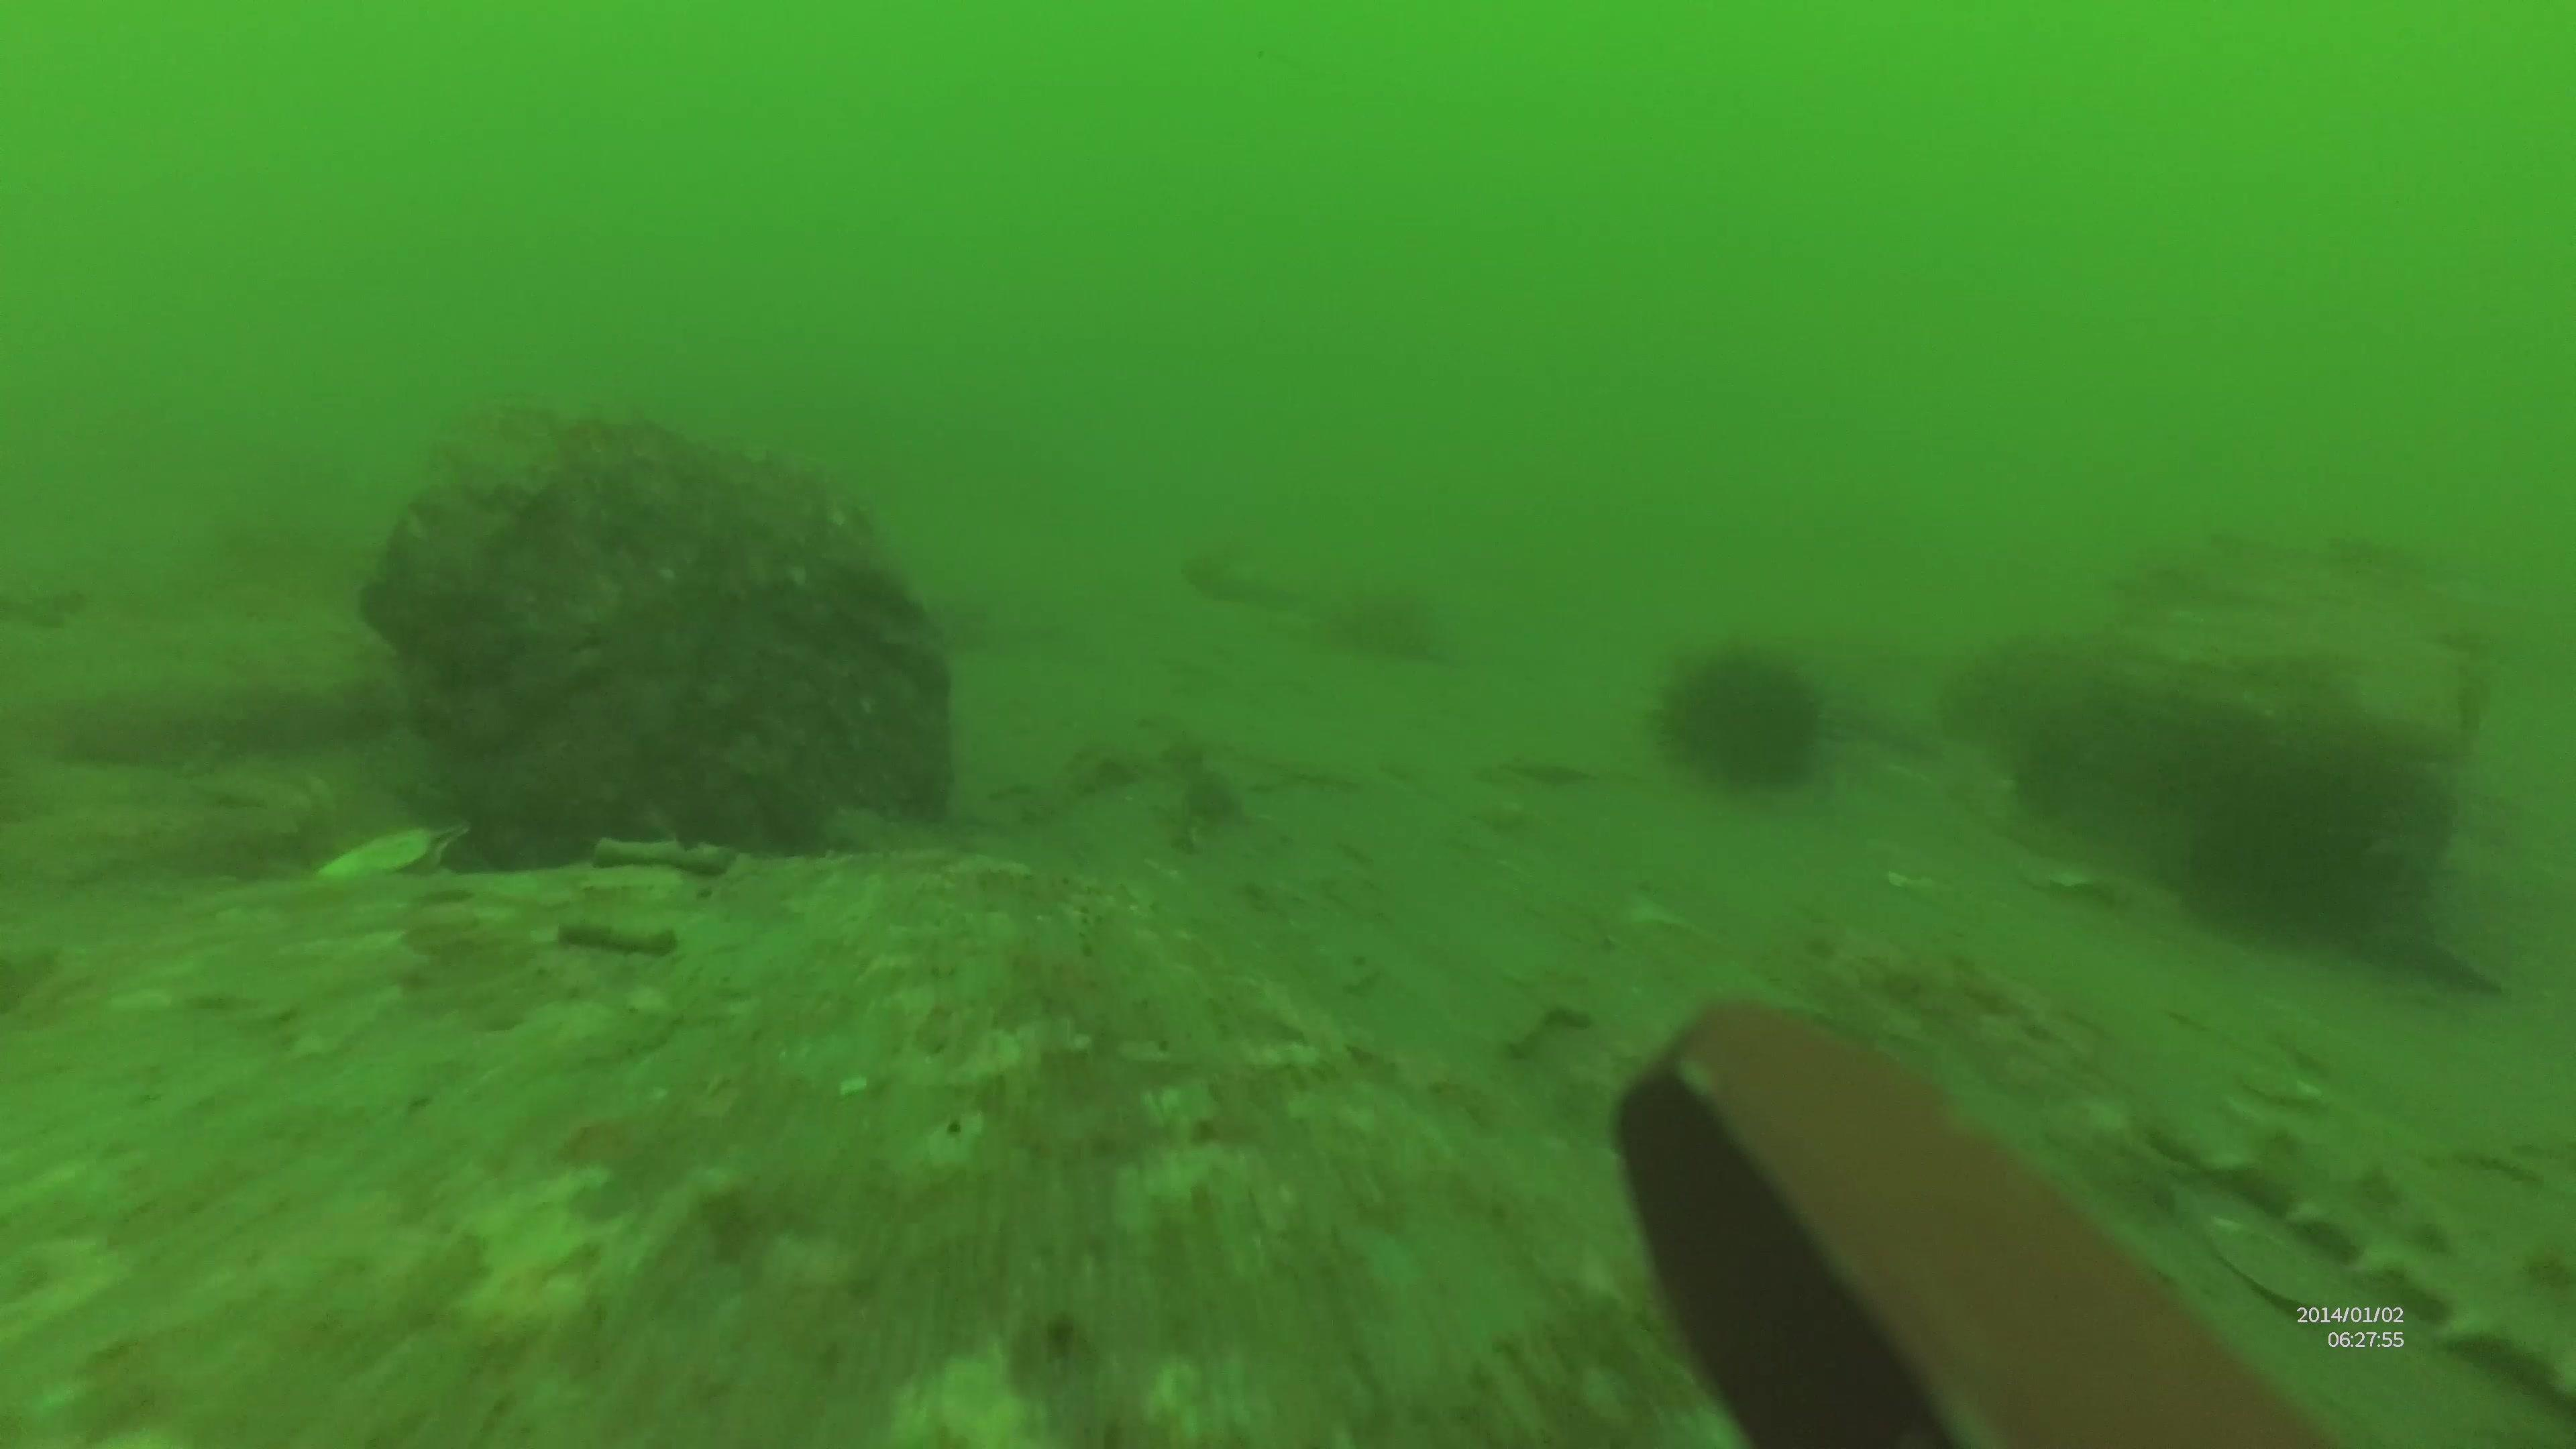echinus: (1658, 623, 1836, 789)
holothurian: (2164, 1072, 2576, 1435)
